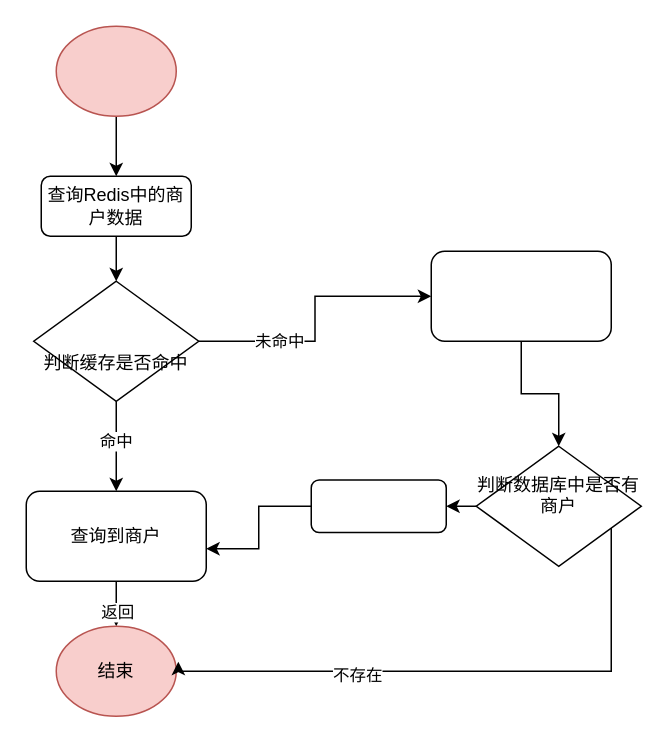
Some shapes in this 668 by 743 pixel diagram are drawn without their labels. Here are the shapes that lost their labels. From the top down, the centre of each, then its label:
point (115, 70): 开始
point (520, 295): 查询数据库是否存在商户
point (378, 505): 保存数据到Redis中
